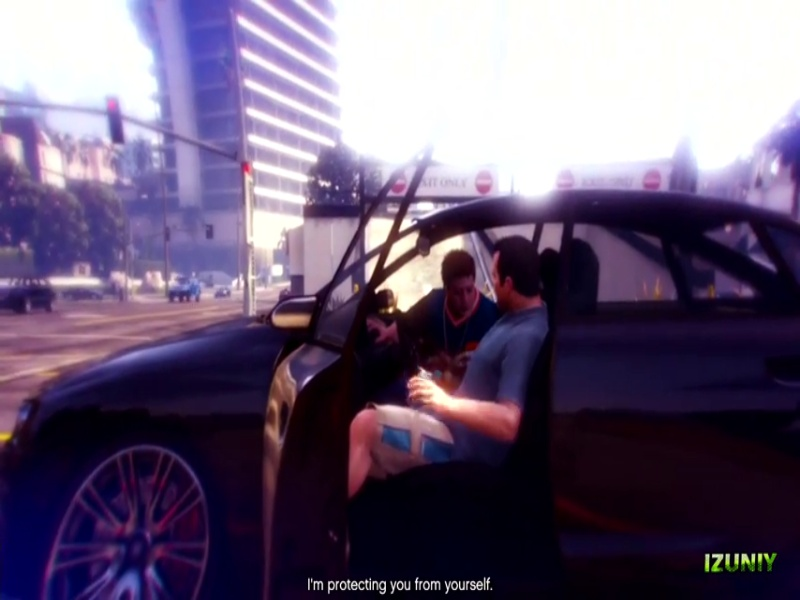human: (336, 245, 540, 557)
